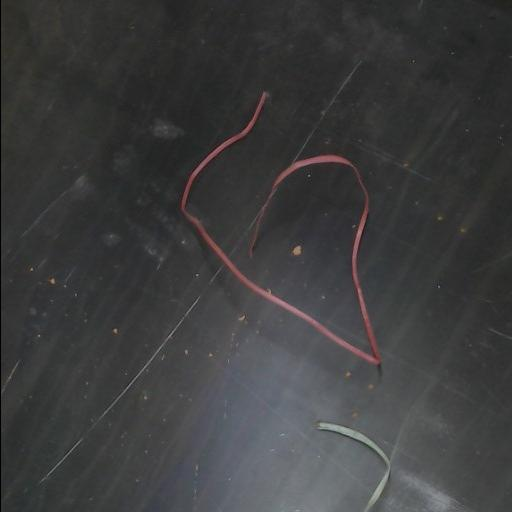conveyor belt: (1, 0, 511, 511)
thread: (181, 92, 380, 374), (317, 421, 388, 511)
